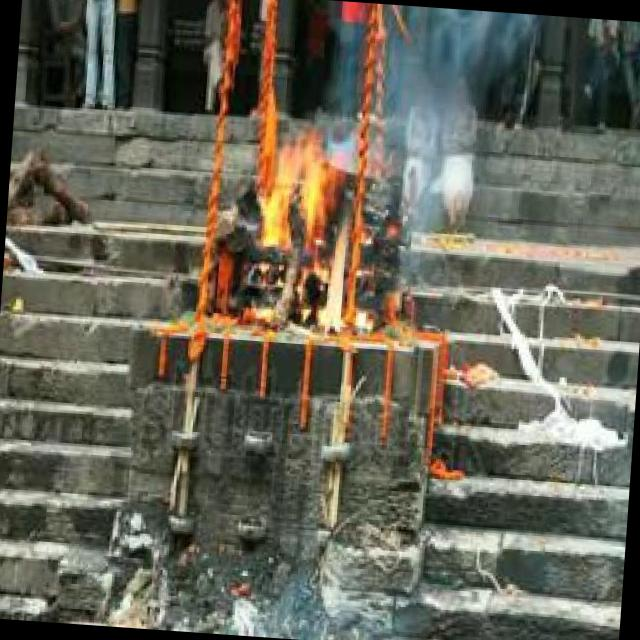Fire: (253, 115, 359, 337), (253, 115, 359, 336)
